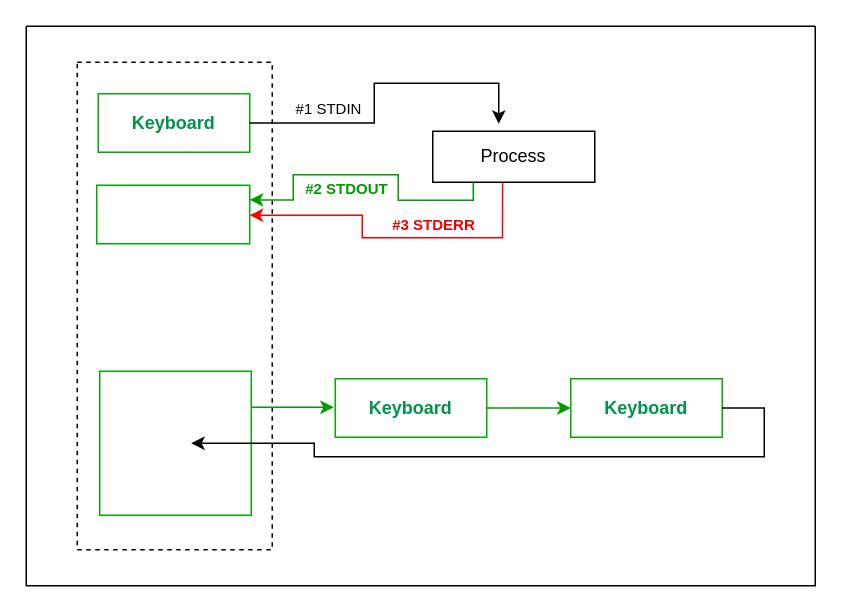
The diagram is 842 pixels wide and 612 high, and some of its shapes have lost their labels. The box of each missing label's shape, as (x1, y1, x2, y2) in pixels:
$ Command Result $ ...................: (98, 370, 251, 515)
Display: (95, 184, 250, 244)
